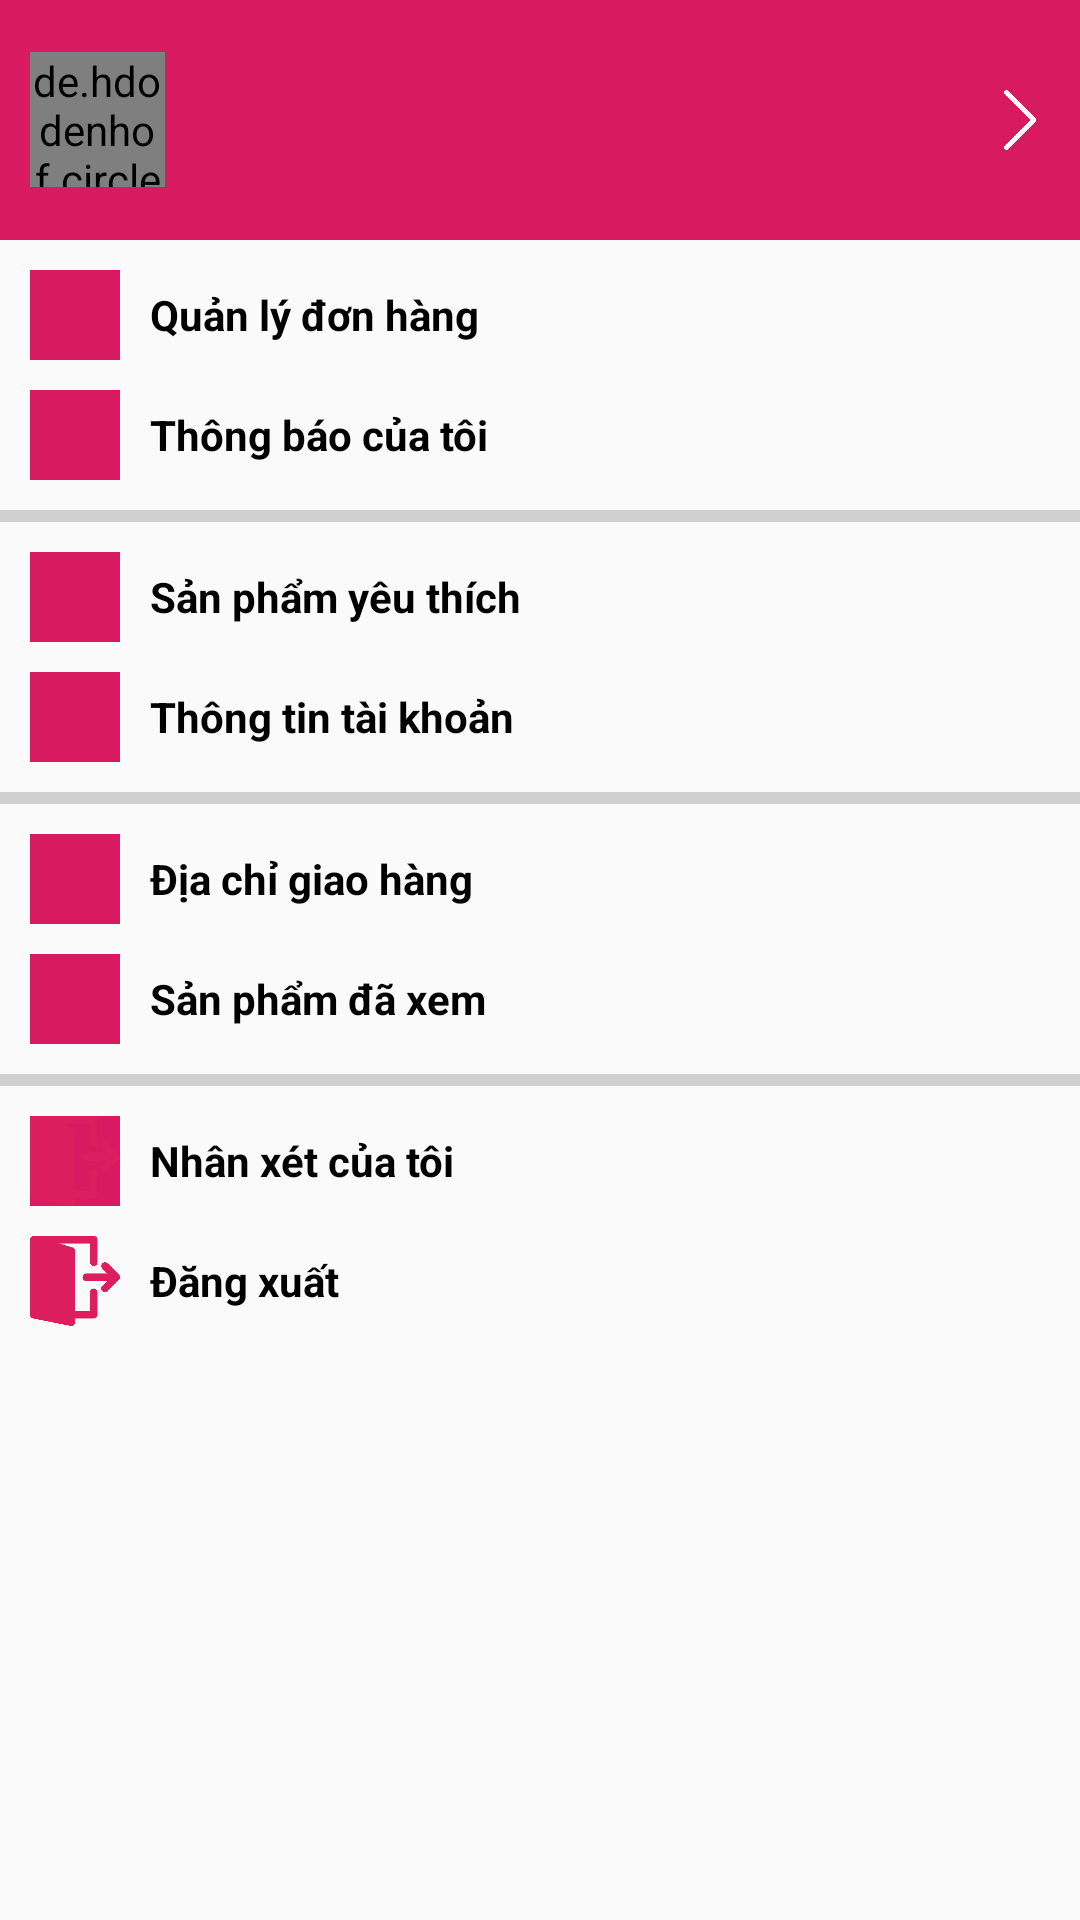

Screen size 1080w x 1920h. Icon name, then its box in pixels as {"x1": x1, "y1": y1, "x2": x2, "y2": y2}:
right: {"x1": 1004, "y1": 90, "x2": 1036, "y2": 150}
